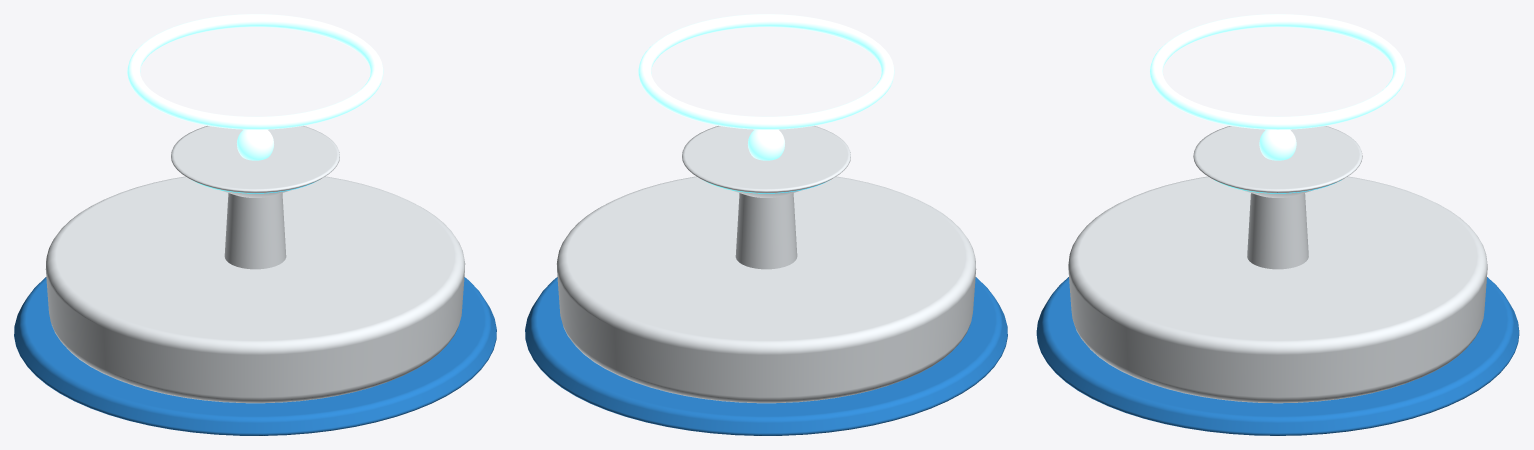
Rendered from fountain.glb.
3 renders of one model, left to right at view 1: azimuth 30°, elevation 25°; view 2: azimuth 150°, elevation 25°; view 3: azimuth 270°, elevation 25°, orthographic.
Visible parts, largest first — view 1: Fountain, Ring; view 2: Fountain, Ring; view 3: Fountain, Ring.
Part boxes in pixels (box(x1,y1,x2,y2)): Fountain: box(14, 126, 496, 435); Ring: box(127, 14, 383, 129); Fountain: box(525, 126, 1007, 435); Ring: box(638, 14, 894, 129); Fountain: box(1036, 126, 1519, 435); Ring: box(1150, 14, 1405, 129).
Bounding box in the file's own units: 5.16 × 3.17 × 5.16.
